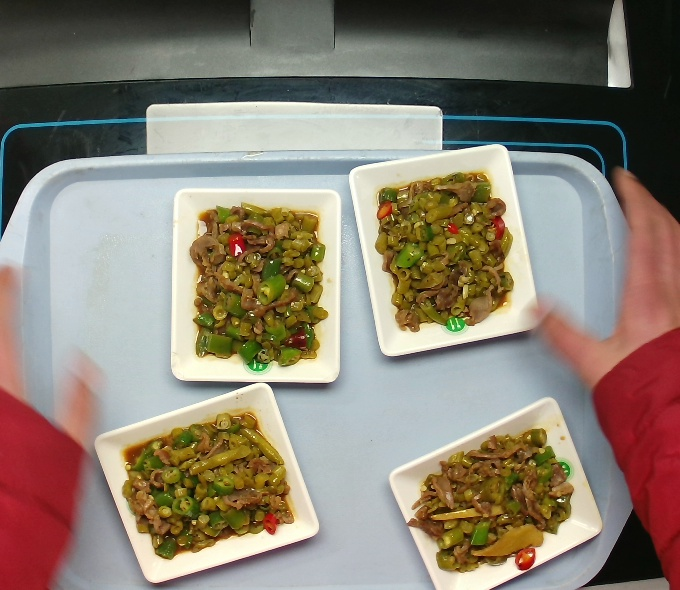wcq-SuanDouJiaoChaoJiZhen: (121, 409, 292, 567), (402, 419, 574, 571), (186, 204, 326, 369), (370, 176, 516, 329)
